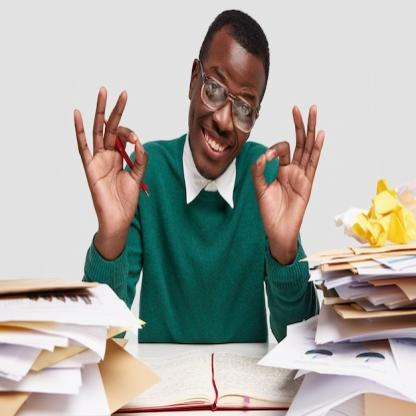ok: (70, 82, 150, 238), (251, 102, 327, 252)
